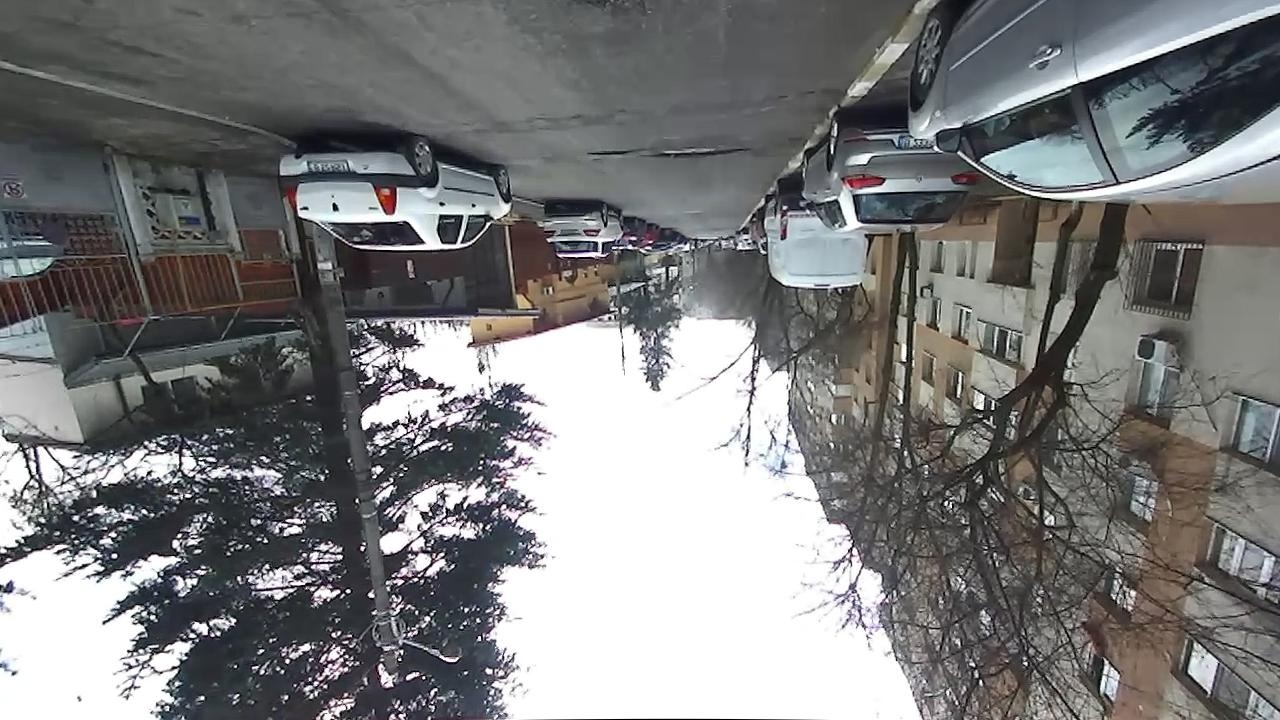pothole: (645, 140, 750, 163), (570, 0, 651, 20), (584, 142, 641, 161)
